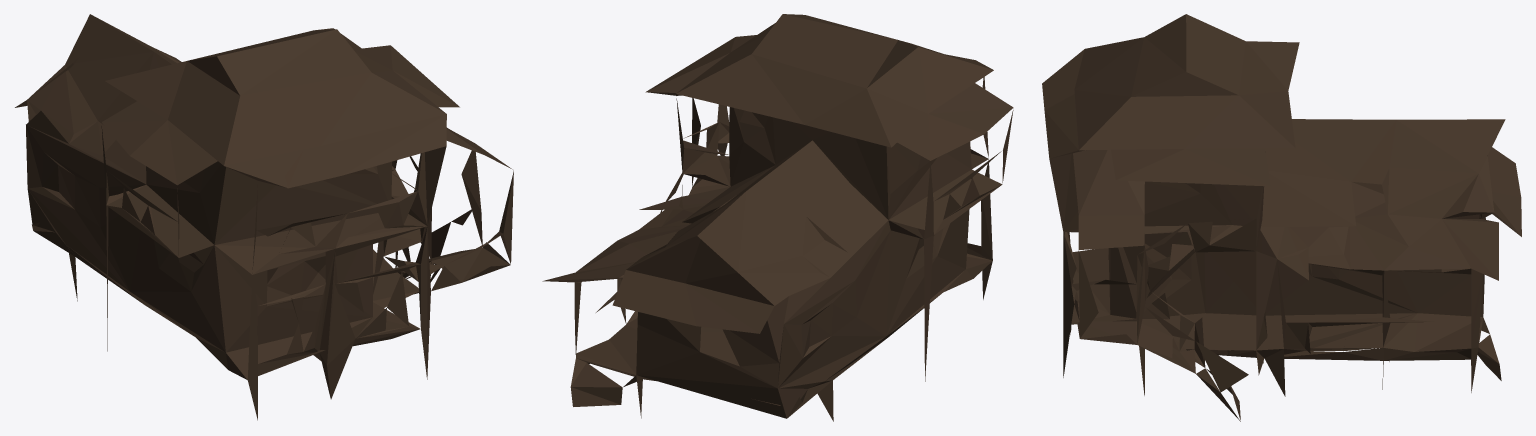
File: rusty-house.lod2.glb
3 renders of one model, left to right at view 1: azimuth 30°, elevation 25°; view 2: azimuth 150°, elevation 25°; view 3: azimuth 270°, elevation 25°, orthographic. The views are drawn at different scales.
Visible parts, largest first — view 1: Object_4; view 2: Object_4; view 3: Object_4.
Part boxes in pixels (bbox=[...]): Object_4: bbox=[15, 14, 513, 420]; Object_4: bbox=[542, 14, 1013, 421]; Object_4: bbox=[1042, 14, 1521, 421].
Size of the model in its own units: 7.5 by 6.85 by 9.98.
